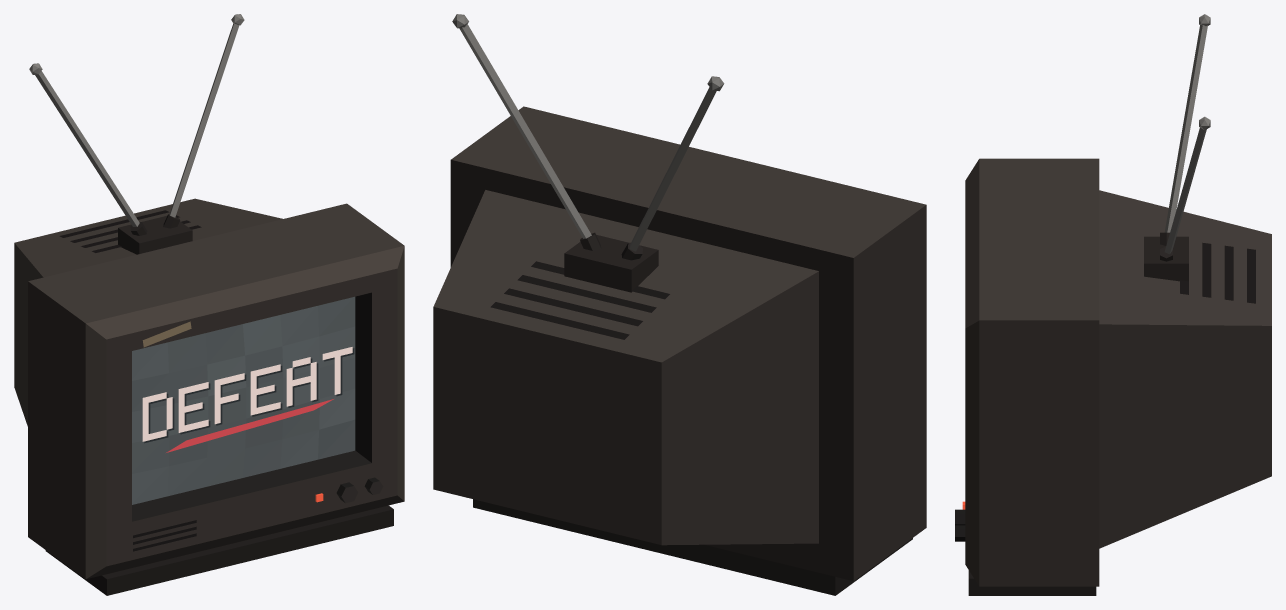
Rendered from tl_prop_tv_crt_v01.glb.
3 views of the same model, side by side, from view 1: azimuth 30°, elevation 25°; view 2: azimuth 150°, elevation 25°; view 3: azimuth 270°, elevation 25° (orthographic). The views are drawn at different scales.
Visible parts, largest first — view 1: tl_prop_tv_crt_v01; view 2: tl_prop_tv_crt_v01; view 3: tl_prop_tv_crt_v01.
Boxes of the visible parts, bbox=[...] form: tl_prop_tv_crt_v01: bbox=[14, 14, 404, 595]; tl_prop_tv_crt_v01: bbox=[433, 14, 926, 595]; tl_prop_tv_crt_v01: bbox=[955, 14, 1271, 595].
Bounding box in the file's own units: 0.6 × 0.7884 × 0.496.
